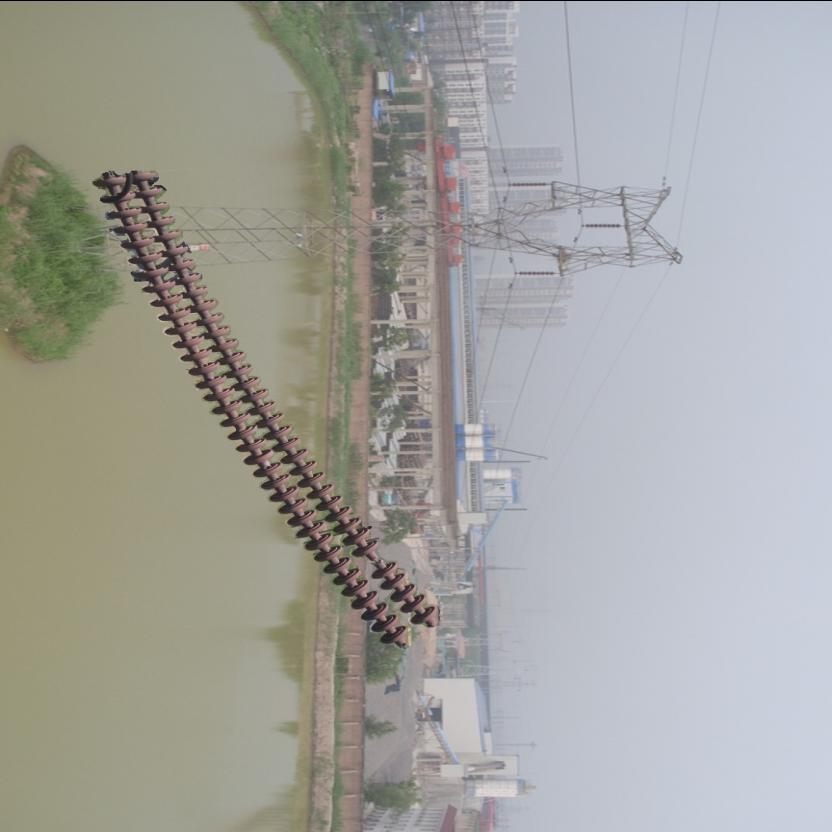defect: (350, 534, 400, 580)
